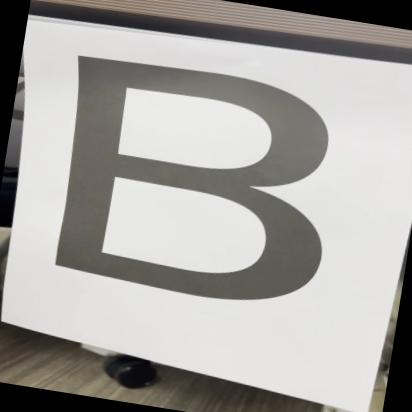seat: (28, 43, 368, 332)
